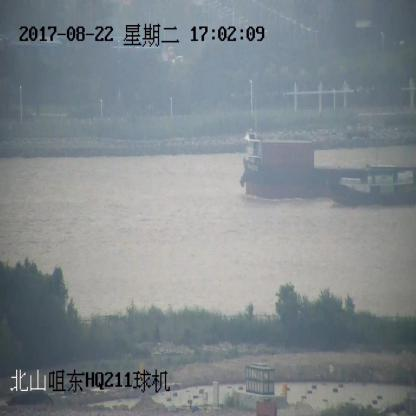Bulk Carrier: (239, 133, 415, 198)
